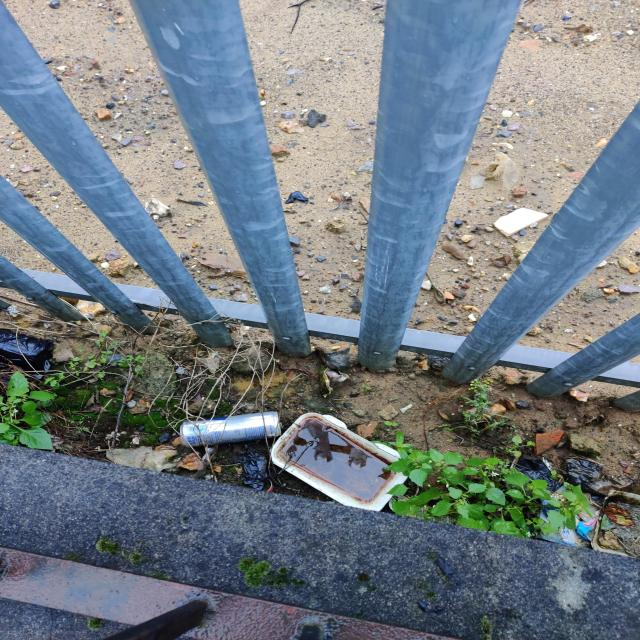litter: (252, 394, 428, 539), (169, 401, 293, 460)
